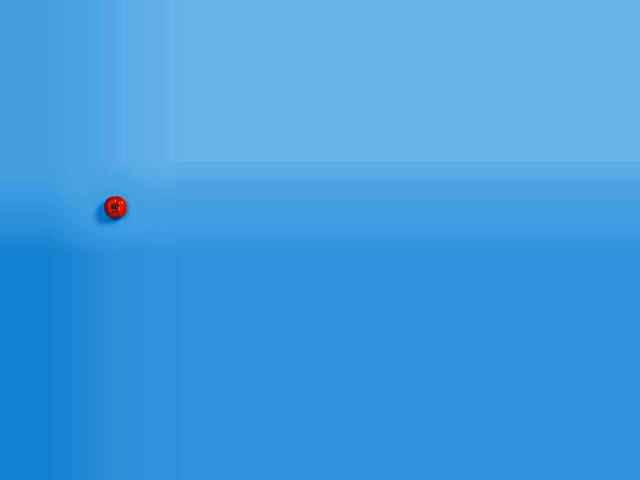tomato: (103, 196, 126, 218)
